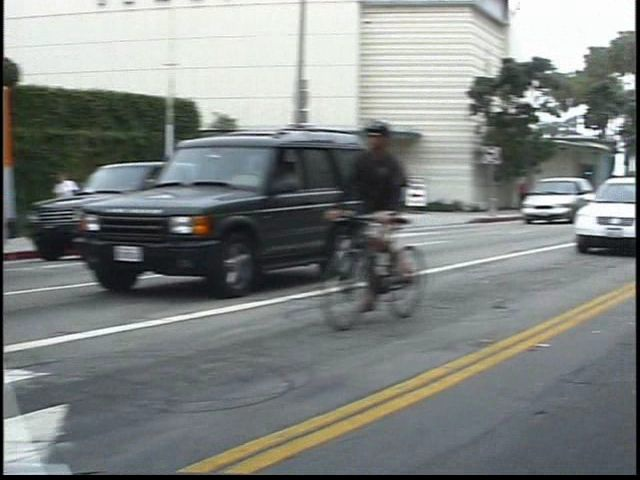person: (368, 113, 446, 315), (75, 169, 105, 241), (532, 171, 554, 218)
